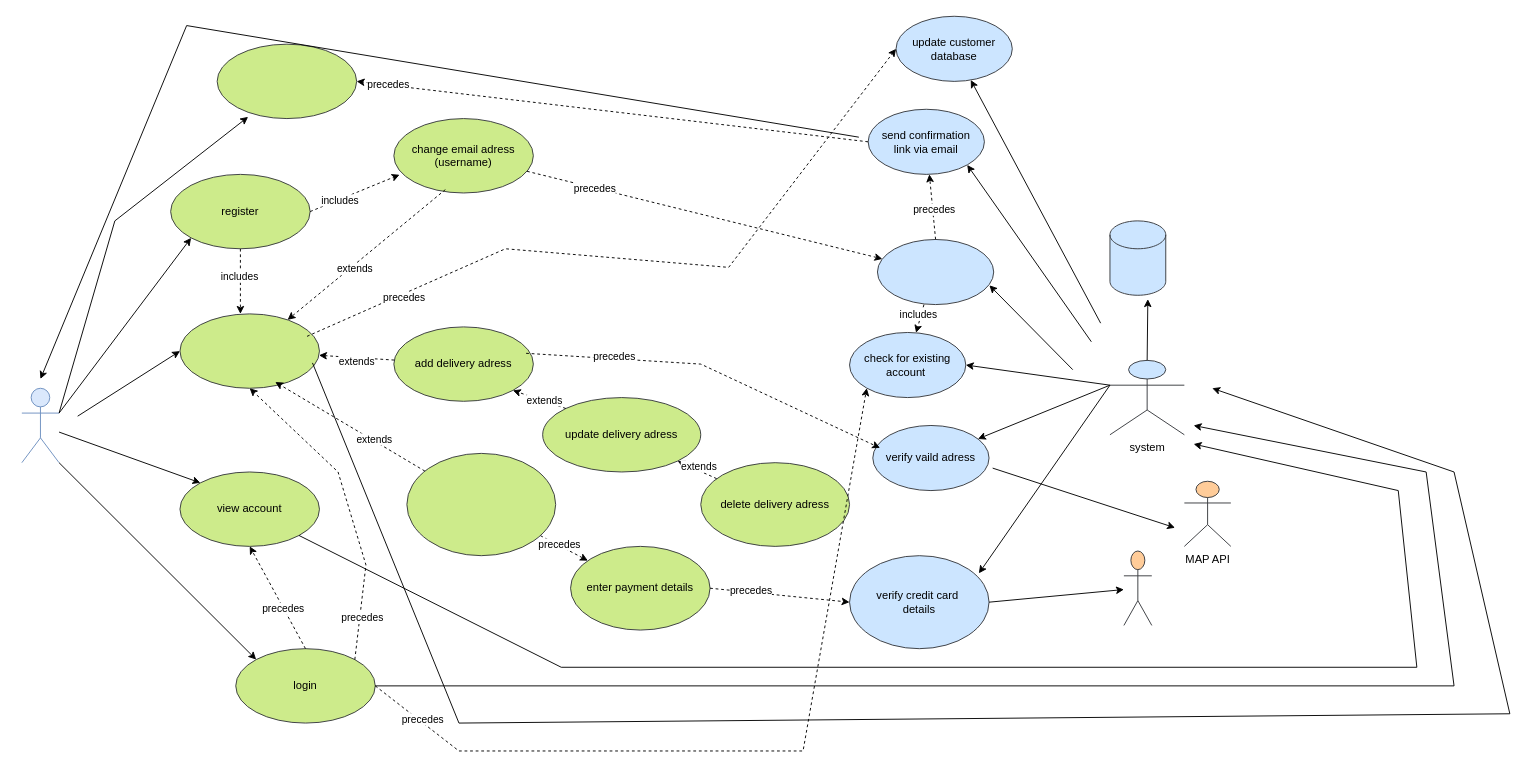
The diagram is 1534 pixels wide and 775 high, and some of its shapes have lost their labels. Here are the shapes that lost their labels. From the top down, the centre of each, then its label:
At point 286,81: "confirm email adress".
At point 935,272: "verify email is unique".
At point 1137,257: "customer database".
At point 249,350: "update account details".
At point 40,425: "Customer".
At point 481,504: "add payment methıd".
At point 1137,587: "third-party payment verification service".
